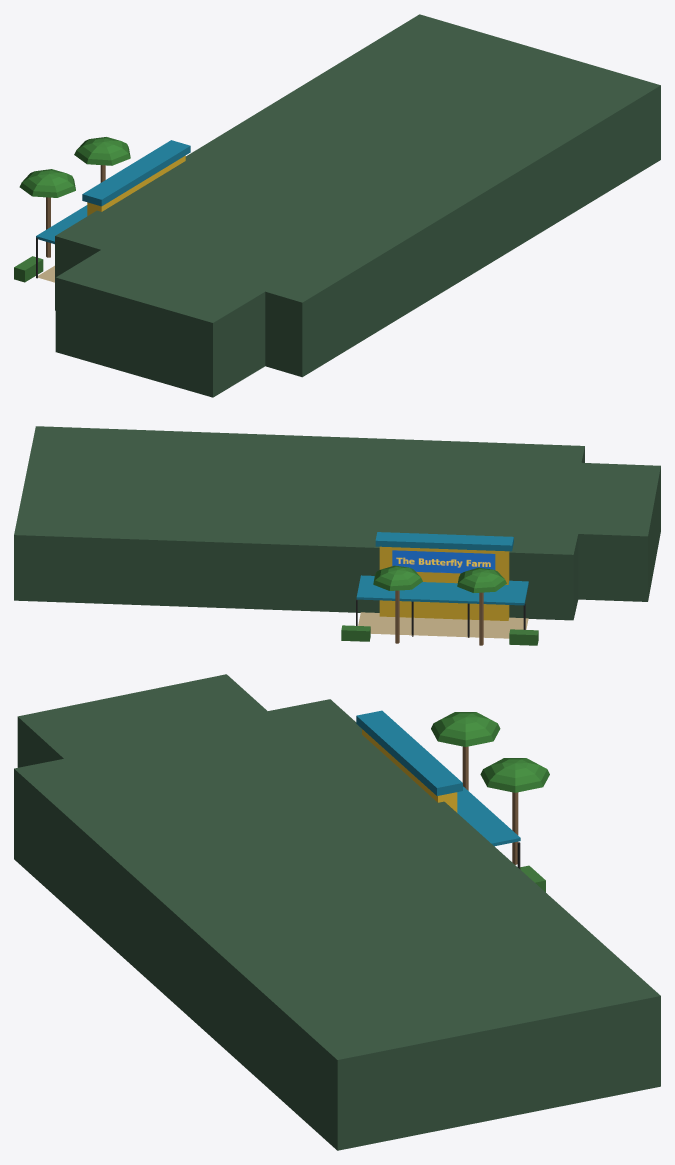
The model's file is butterflyfarm.glb.
3 views of the same model, one above another, from view 1: azimuth 30°, elevation 25°; view 2: azimuth 150°, elevation 25°; view 3: azimuth 270°, elevation 25° (orthographic). The views are drawn at different scales.
Parts seen in each view (by area): view 1: butterflyfarm_lod0; view 2: butterflyfarm_lod0; view 3: butterflyfarm_lod0.
Boxes of the visible parts, x1,y1,x2,y2 form: butterflyfarm_lod0: (14,14,660,397); butterflyfarm_lod0: (14,426,660,645); butterflyfarm_lod0: (14,674,660,1150).
Size of what is drawn, in the model's own units: 51.1 by 6.76 by 36.2.
11 materials, 1 textured.
